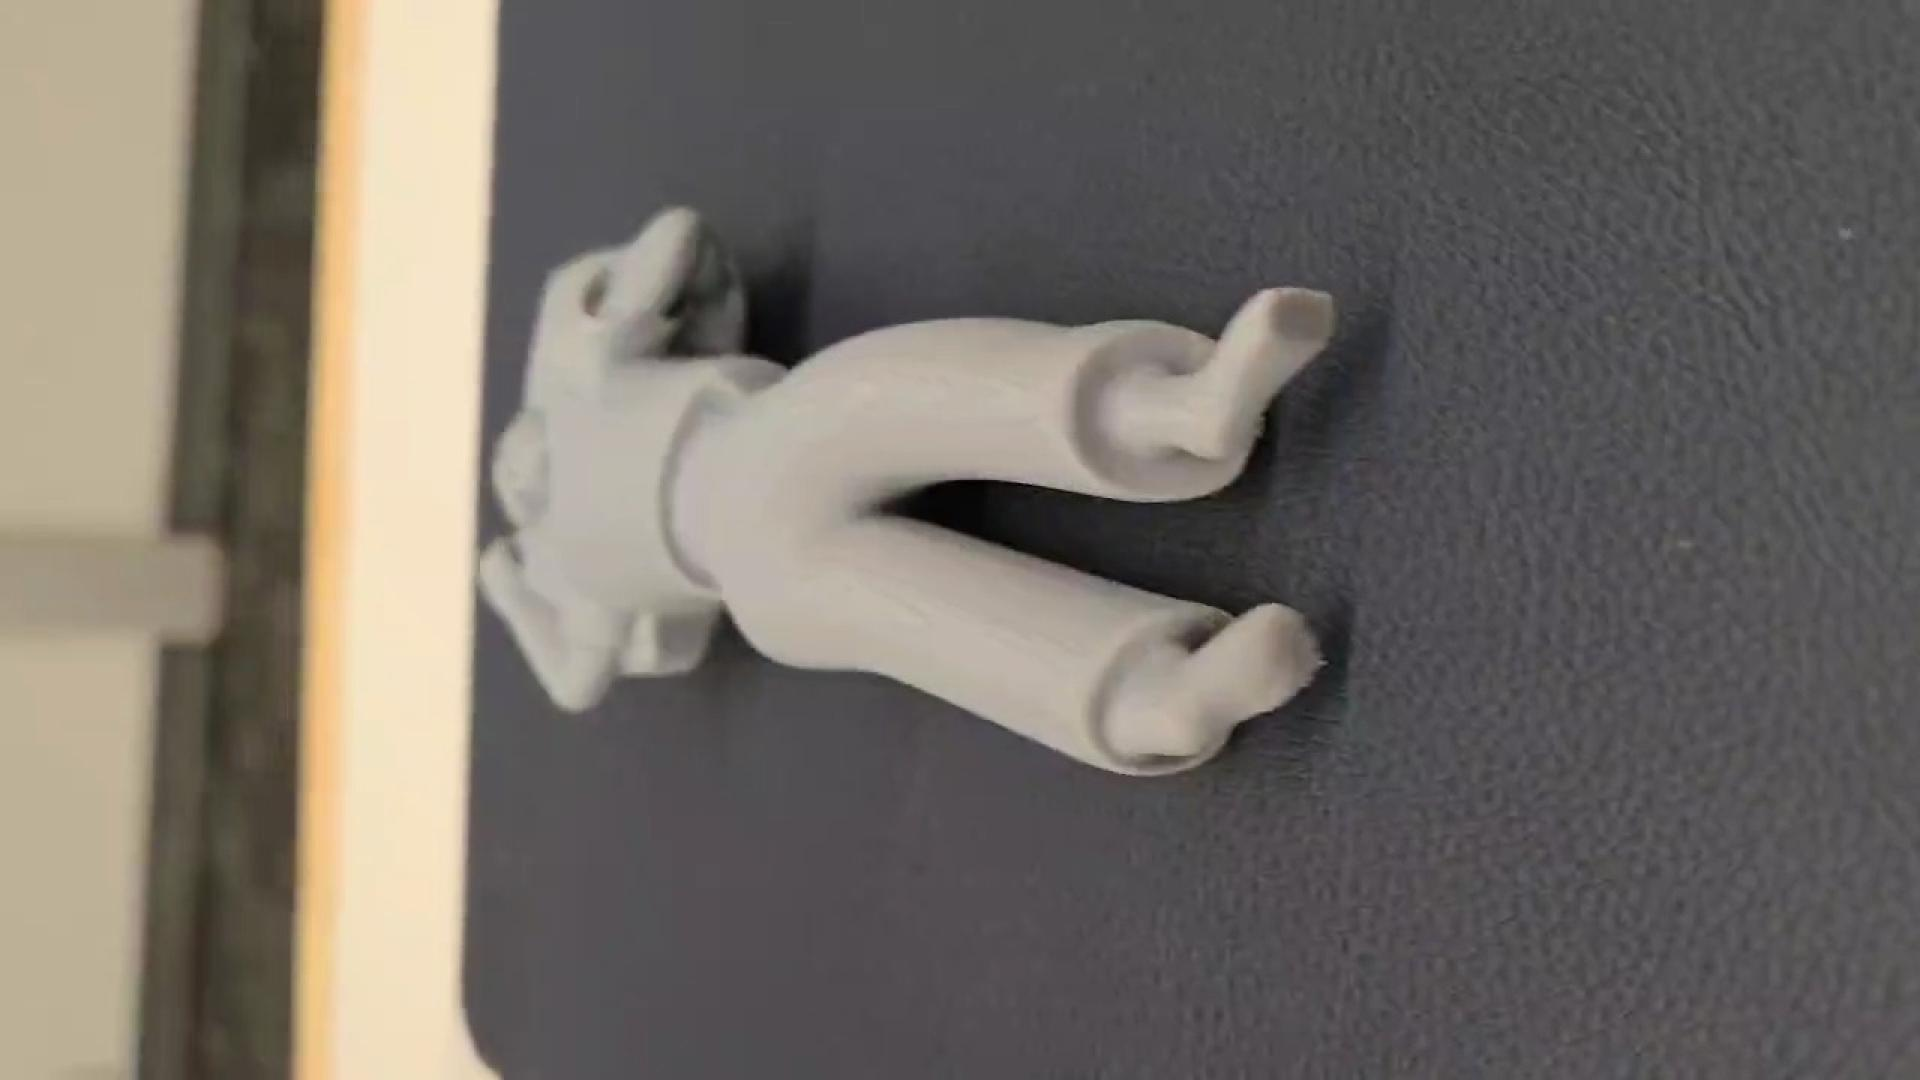Bad-style: (485, 202, 1333, 779)
